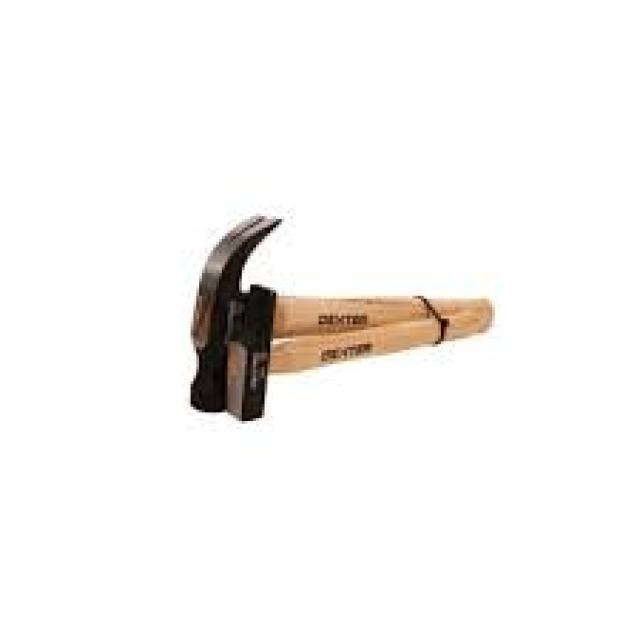hammer: (138, 137, 640, 445)
